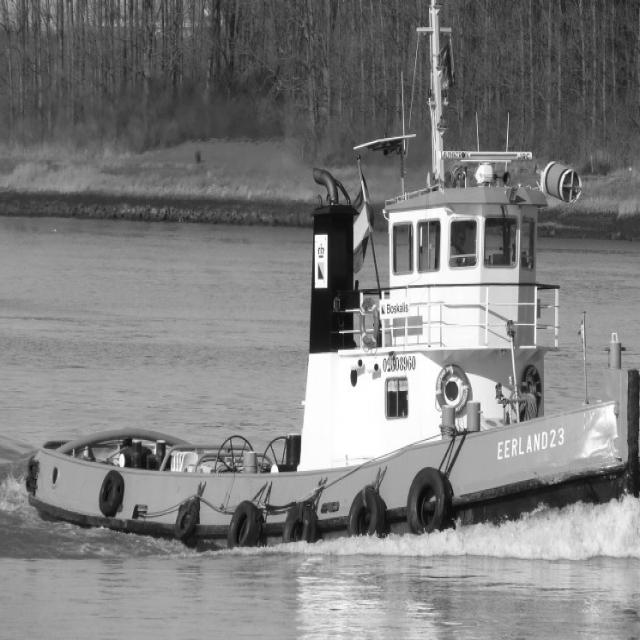tugboat: (23, 1, 640, 561)
